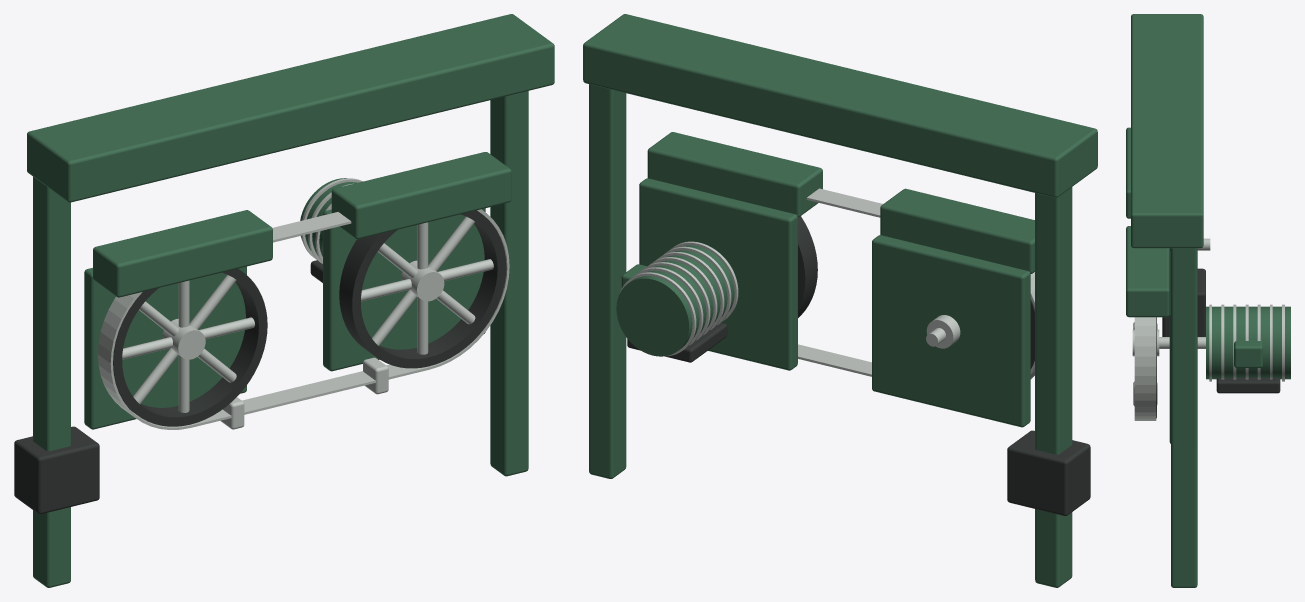
File: sawmill-and-timber-yard-band-saw-head-59469ffa__31163.glb
3 views of the same model, side by side, from view 1: azimuth 30°, elevation 25°; view 2: azimuth 150°, elevation 25°; view 3: azimuth 270°, elevation 25° (orthographic). The views are drawn at different scales.
Visible parts, largest first — view 1: band-saw-head; view 2: band-saw-head; view 3: band-saw-head.
Part boxes in pixels (x1=…): band-saw-head: x1=14, y1=14, x2=554, y2=587; band-saw-head: x1=583, y1=14, x2=1097, y2=587; band-saw-head: x1=1126, y1=14, x2=1290, y2=587.
Size of the model in its own units: 2.01 by 1.71 by 0.6801.
